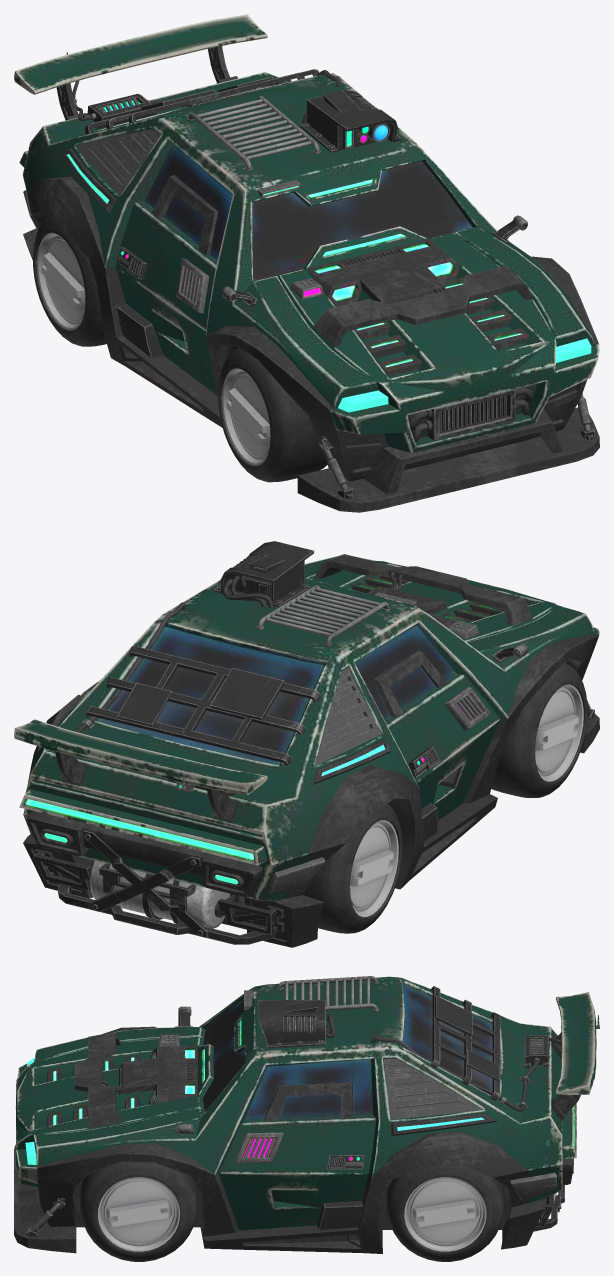
Rendered from green_bug_stylized_scifi_car_free.glb.
3 views of the same model, one above another, from view 1: azimuth 30°, elevation 25°; view 2: azimuth 150°, elevation 25°; view 3: azimuth 270°, elevation 25° (orthographic). The views are drawn at different scales.
Parts seen in each view (by area): view 1: Plane, Plane.007, Circle.003, Circle.004; view 2: Plane, Plane.007, Circle.003, Circle.004; view 3: Plane, Plane.007, Circle.002, Circle.001.
Part boxes in pixels (x1,y1,x2,y2): Plane: (14,14,599,512); Plane.007: (23,52,594,498); Circle.003: (218,348,327,482); Circle.004: (33,216,106,346); Plane: (14,554,599,947); Plane.007: (23,541,594,944); Circle.003: (491,663,587,797); Circle.004: (303,803,402,933); Plane: (14,976,596,1253); Plane.007: (25,976,599,1236); Circle.002: (80,1162,197,1261); Circle.001: (386,1165,504,1261).
Bounding box in the file's own units: 345 × 260 × 633.
Materials: 3 (3 with a texture image).
